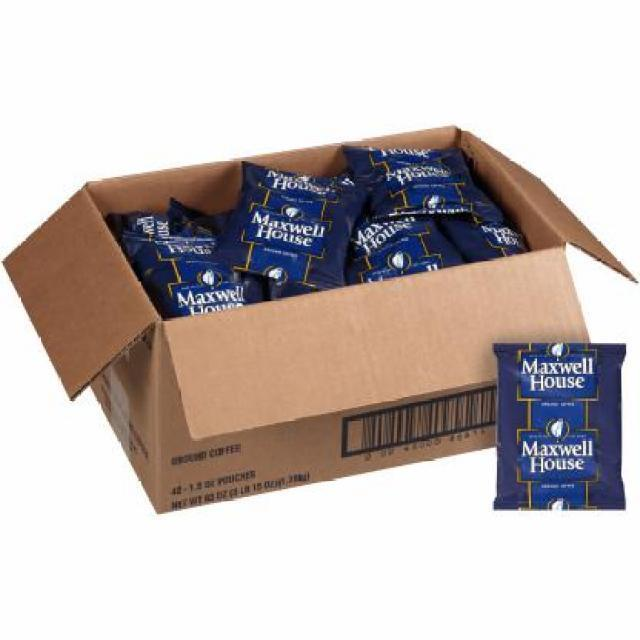box: (1, 130, 610, 512)
